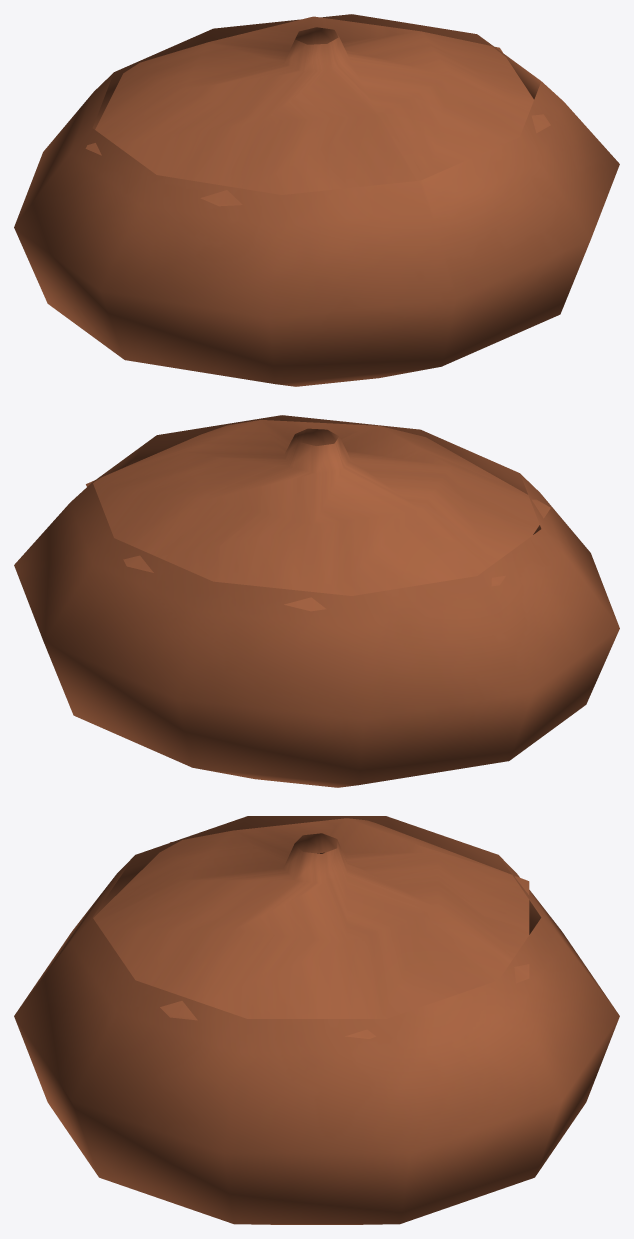
File: Pot_1_Lid_LOD1.gltf
3 renders of one model, top to bottom at view 1: azimuth 30°, elevation 25°; view 2: azimuth 150°, elevation 25°; view 3: azimuth 270°, elevation 25°, orthographic. The views are drawn at different scales.
Parts seen in each view (by area): view 1: Pot_1_Lid_LOD1; view 2: Pot_1_Lid_LOD1; view 3: Pot_1_Lid_LOD1.
Boxes of the visible parts, x1,y1,x2,y2 form: Pot_1_Lid_LOD1: (14, 14, 619, 386); Pot_1_Lid_LOD1: (14, 415, 619, 787); Pot_1_Lid_LOD1: (14, 816, 619, 1224).
Bounding box in the file's own units: 0.5136 × 0.28 × 0.48.
Materials: 1 (1 with a texture image).
